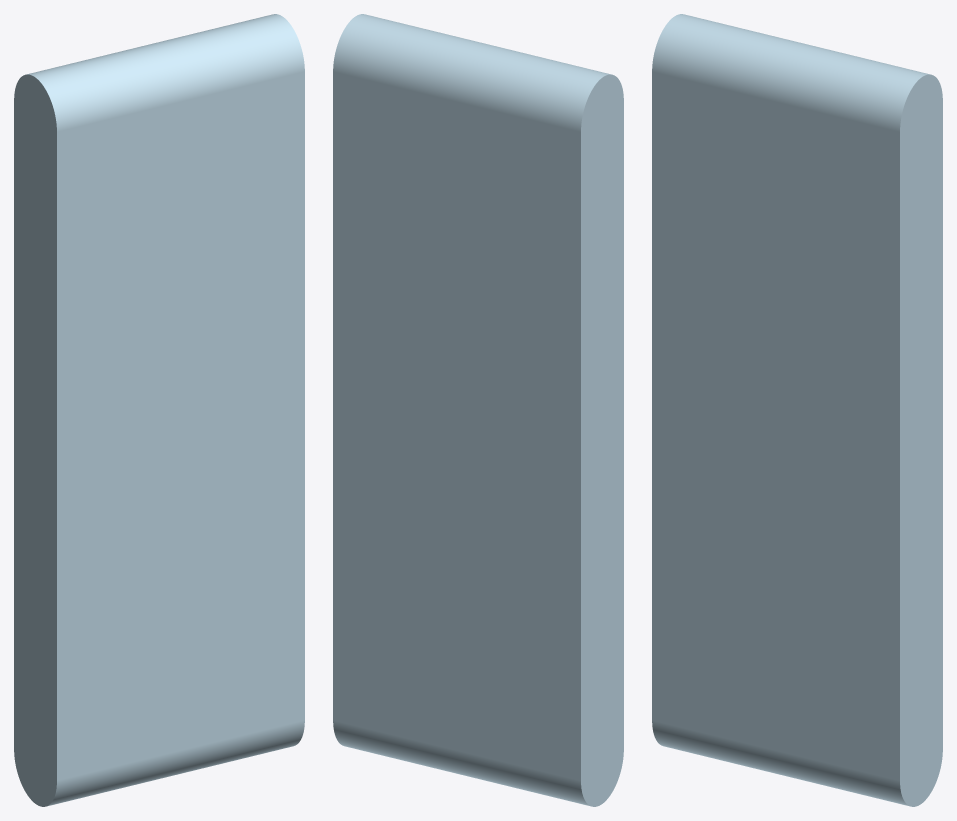
The model's file is Body.gltf.
The picture shows the model from 3 angles, left to right: view 1: azimuth 30°, elevation 25°; view 2: azimuth 150°, elevation 25°; view 3: azimuth 330°, elevation 25°; orthographic projection.
Parts seen in each view (by area): view 1: mesh9, mesh11, mesh8, mesh6; view 2: mesh7, mesh11, mesh8, mesh6; view 3: mesh9, mesh10, mesh8, mesh6.
Boxes of the visible parts, left/top/right/bottom form: mesh9: left=57, top=71, right=304, bottom=780; mesh11: left=14, top=74, right=56, bottom=806; mesh8: left=26, top=14, right=304, bottom=131; mesh6: left=47, top=720, right=304, bottom=806; mesh7: left=333, top=71, right=580, bottom=780; mesh11: left=581, top=74, right=623, bottom=806; mesh8: left=333, top=14, right=611, bottom=131; mesh6: left=333, top=720, right=590, bottom=806; mesh9: left=652, top=71, right=899, bottom=780; mesh10: left=900, top=74, right=942, bottom=806; mesh8: left=652, top=14, right=930, bottom=131; mesh6: left=652, top=720, right=909, bottom=806.
Bounding box in the file's own units: 0.1 × 0.28 × 0.03.
